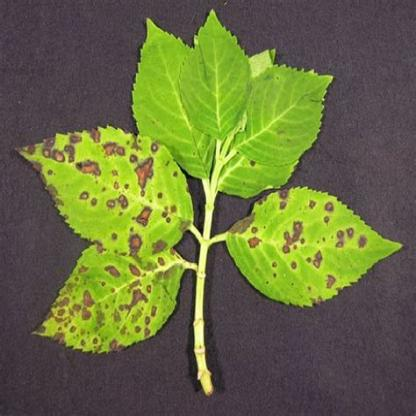black-spot: (58, 146, 160, 206), (259, 224, 359, 272), (92, 258, 166, 322)
